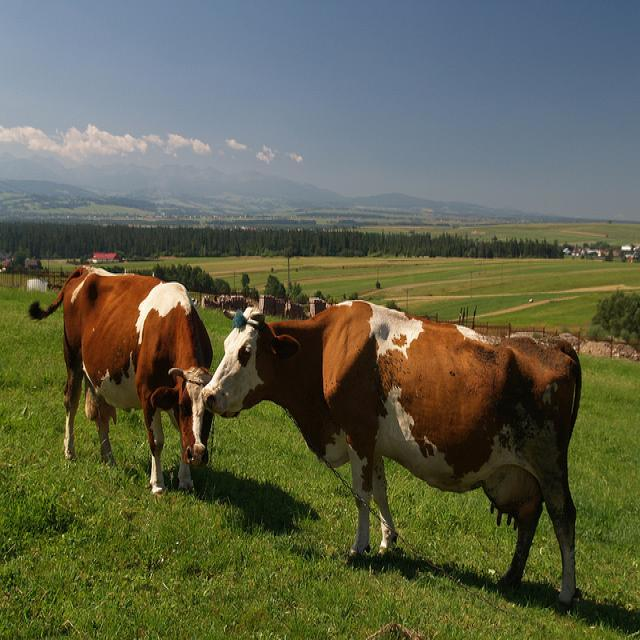cow: (200, 296, 581, 607), (26, 263, 212, 493)
